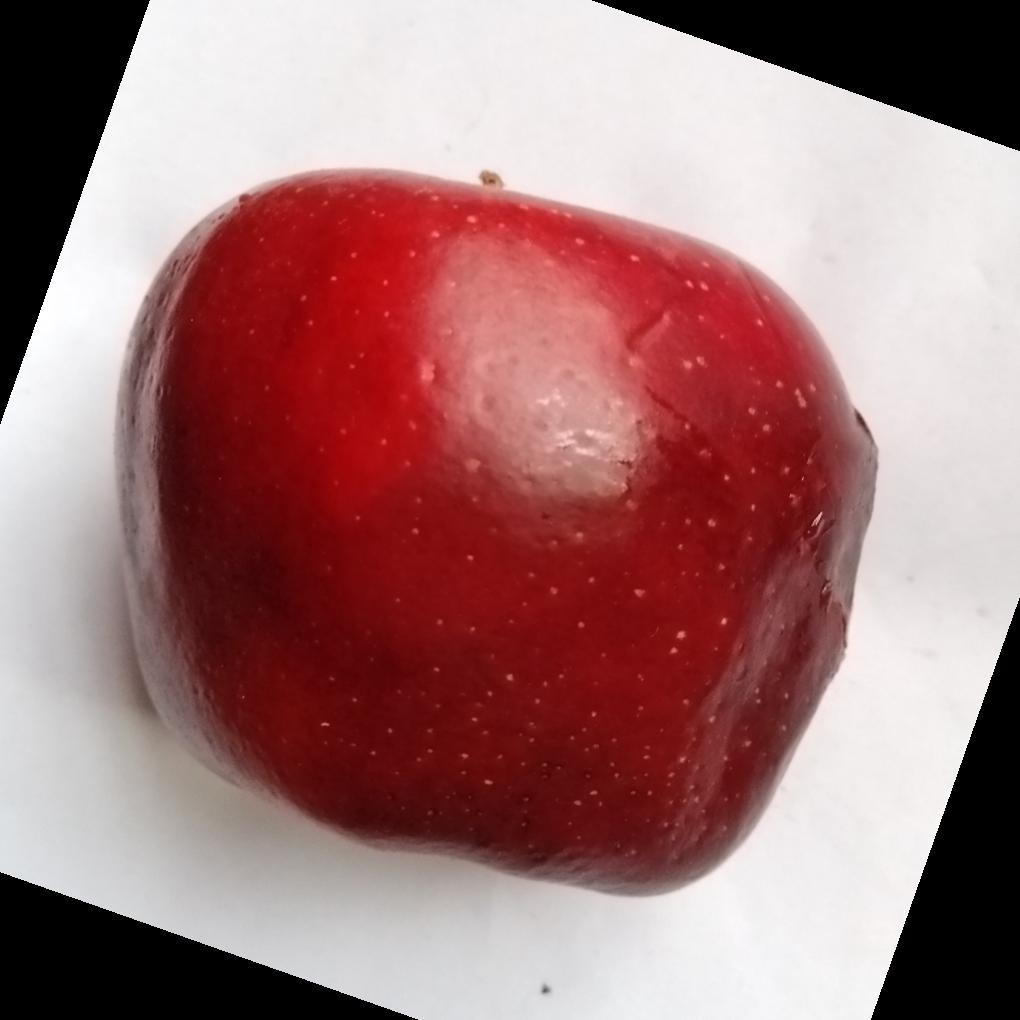FreshOrange: (110, 169, 879, 902)
